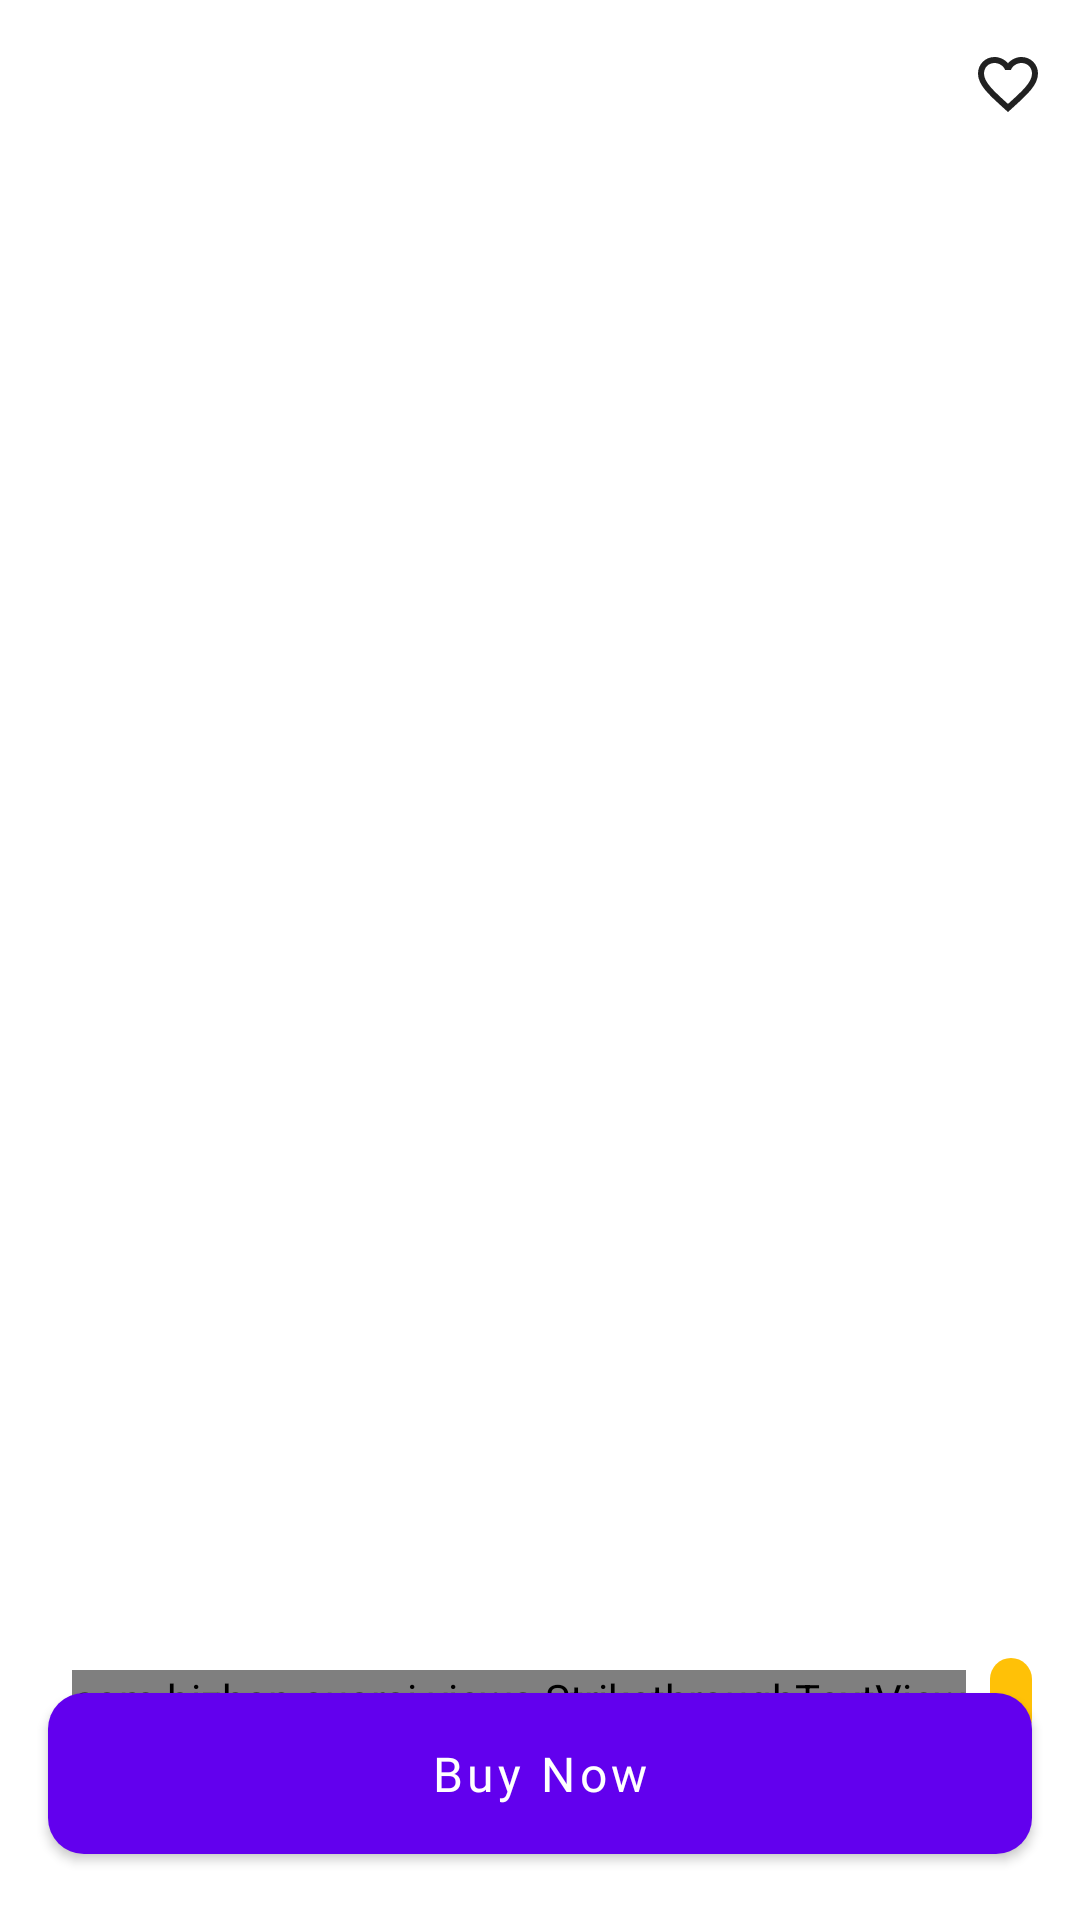

Icons on this 1080w x 1920h Android screen, each with the point to tap as (x=x, y=y):
Add to favorites: (x=1008, y=84)
